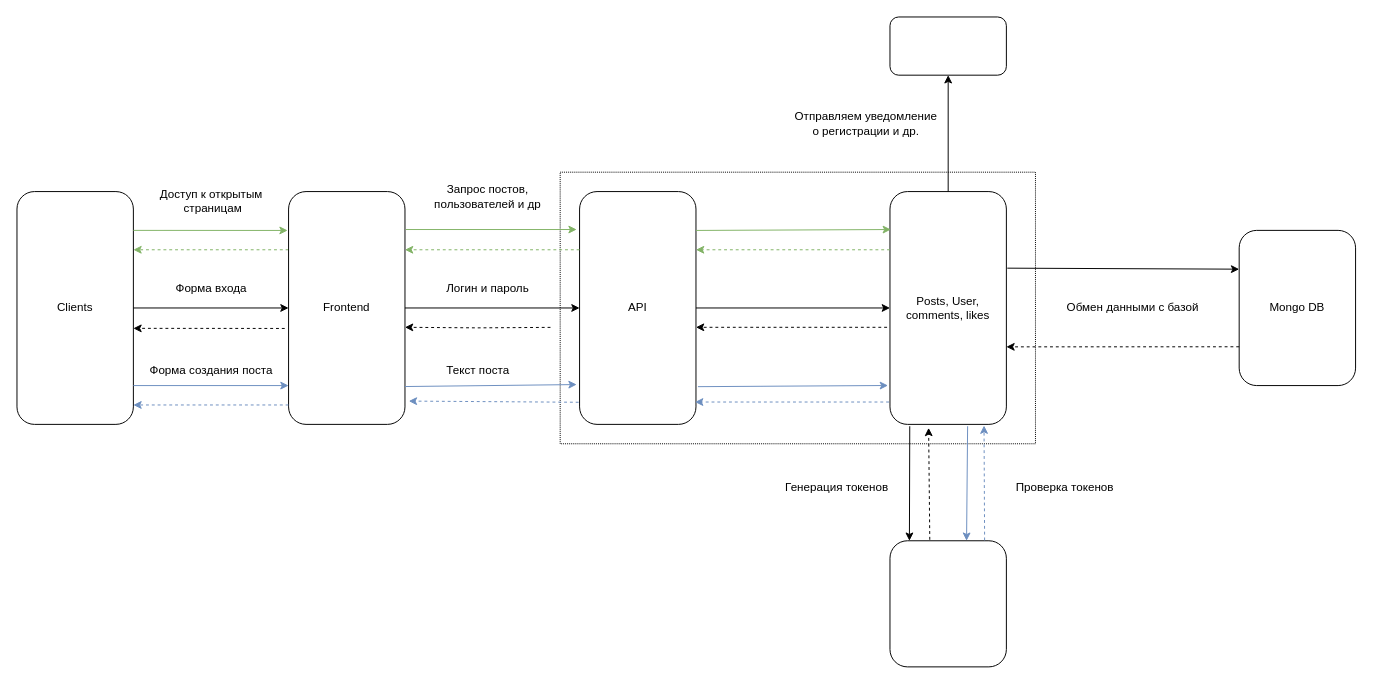
The diagram is 1373 pixels wide and 684 high, and some of its shapes have lost their labels. The shapes that lost their labels are listed below. From the top down, each one's centre as x and y in pixels, then its label:
At point (947, 45): "Email service".
At point (947, 603): "Auth".
